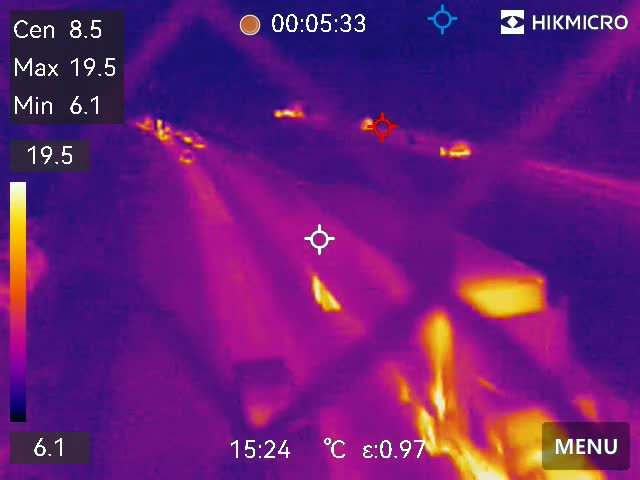heavyTruck: (298, 180, 632, 477)
